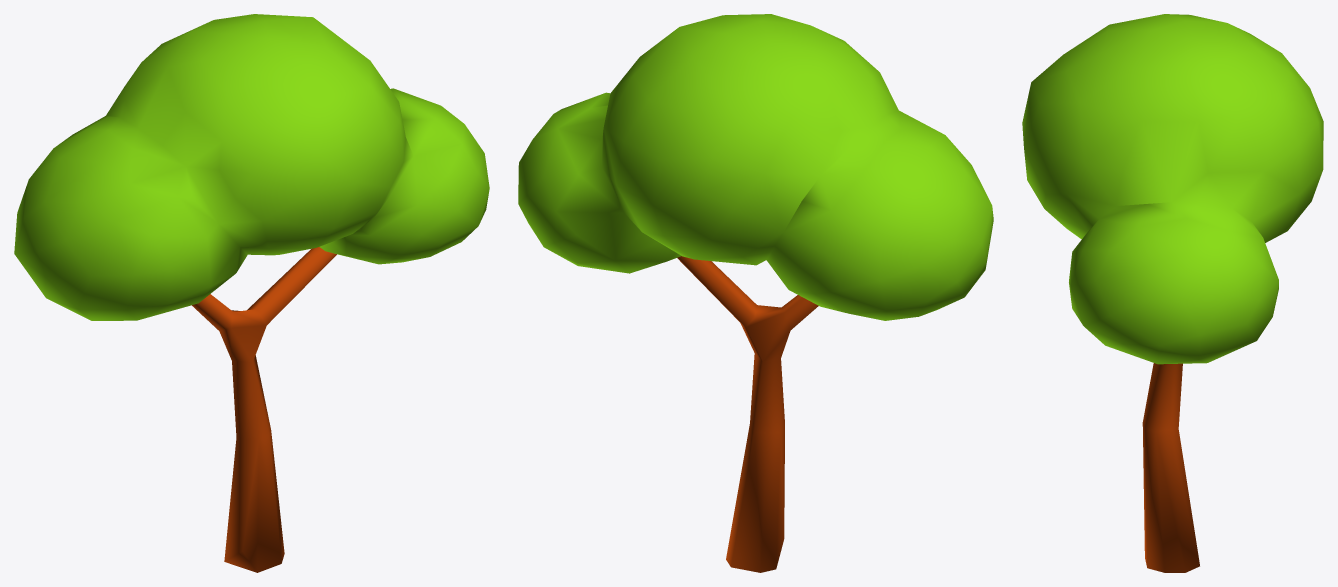
The model's file is Tree005.fbx.
The picture shows the model from 3 angles, left to right: view 1: azimuth 30°, elevation 25°; view 2: azimuth 150°, elevation 25°; view 3: azimuth 270°, elevation 25°; orthographic projection.
Visible parts, largest first — view 1: tree.012; view 2: tree.012; view 3: tree.012.
Part boxes in pixels (left/top/right/bottom): tree.012: left=14, top=14, right=489, bottom=572; tree.012: left=518, top=14, right=993, bottom=572; tree.012: left=1022, top=14, right=1323, bottom=572.
Size of the model in its own units: 364 by 413 by 211.
Materials: 1 (1 with a texture image).
